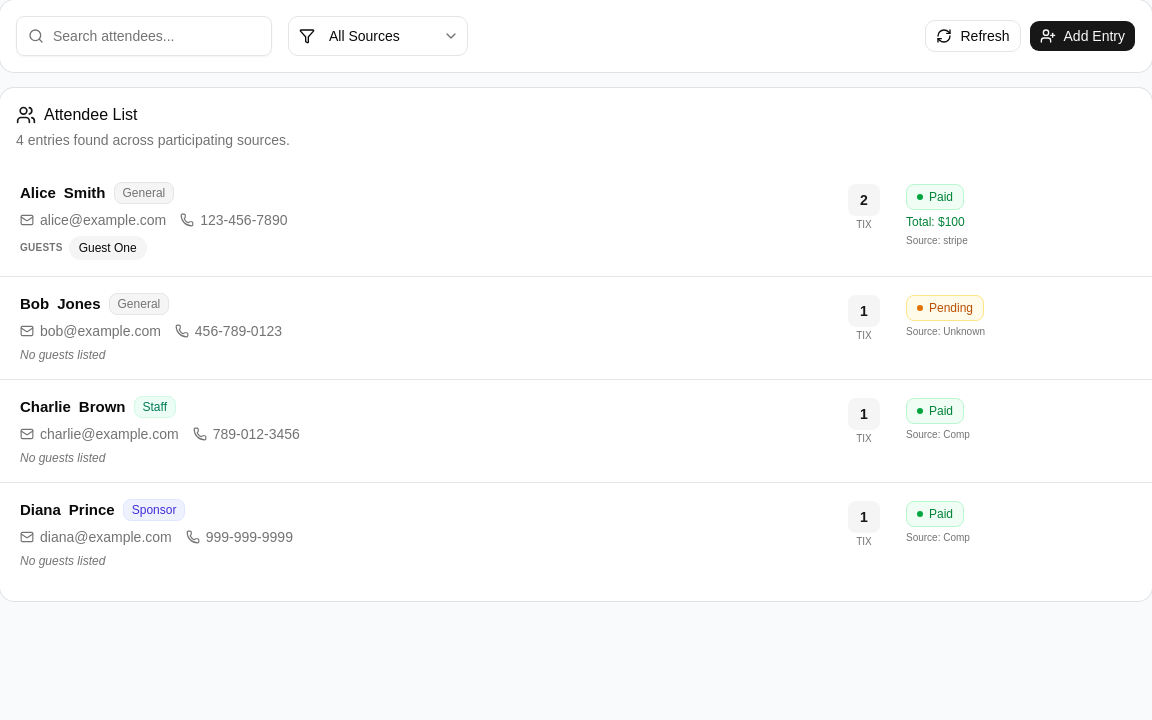
Test: TicketAttendeeTab - Sort and Filter › General Tickets filter: selects General Tickets option and displays only general attendees
The width and height of the screenshot is (1152, 720).
Click the dropdown named "Filter by source": (378, 36) [288,16,468,56]
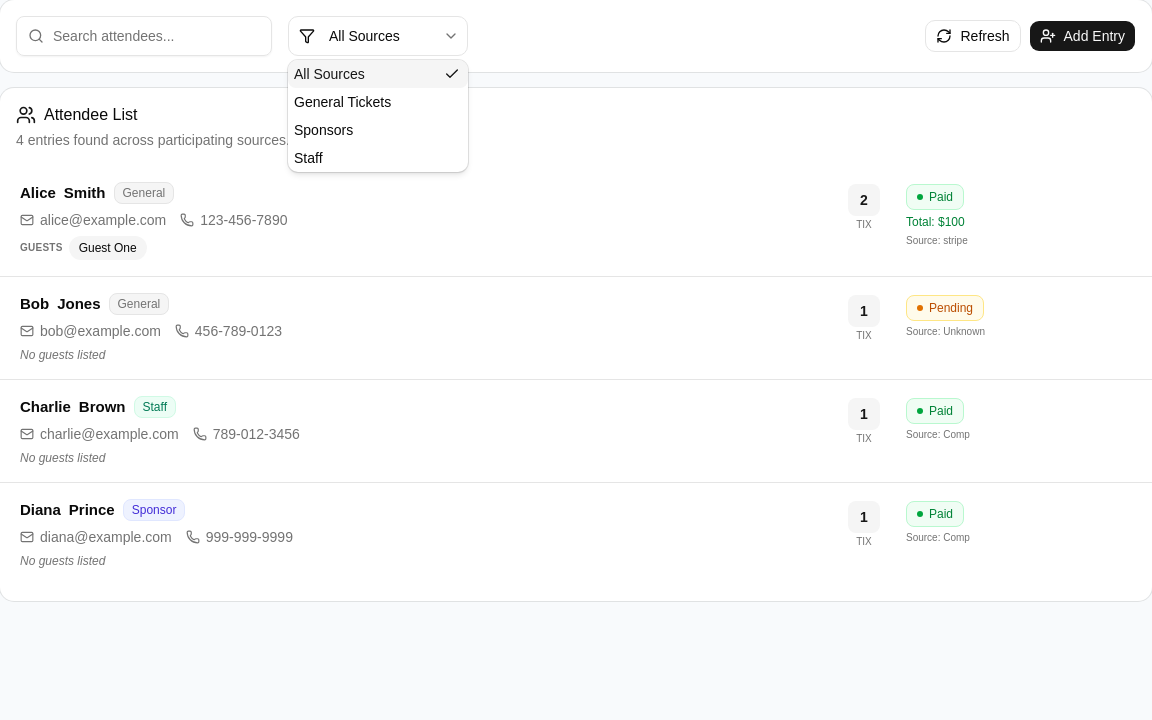
Click the option "General Tickets": (343, 102) [294,94,391,110]
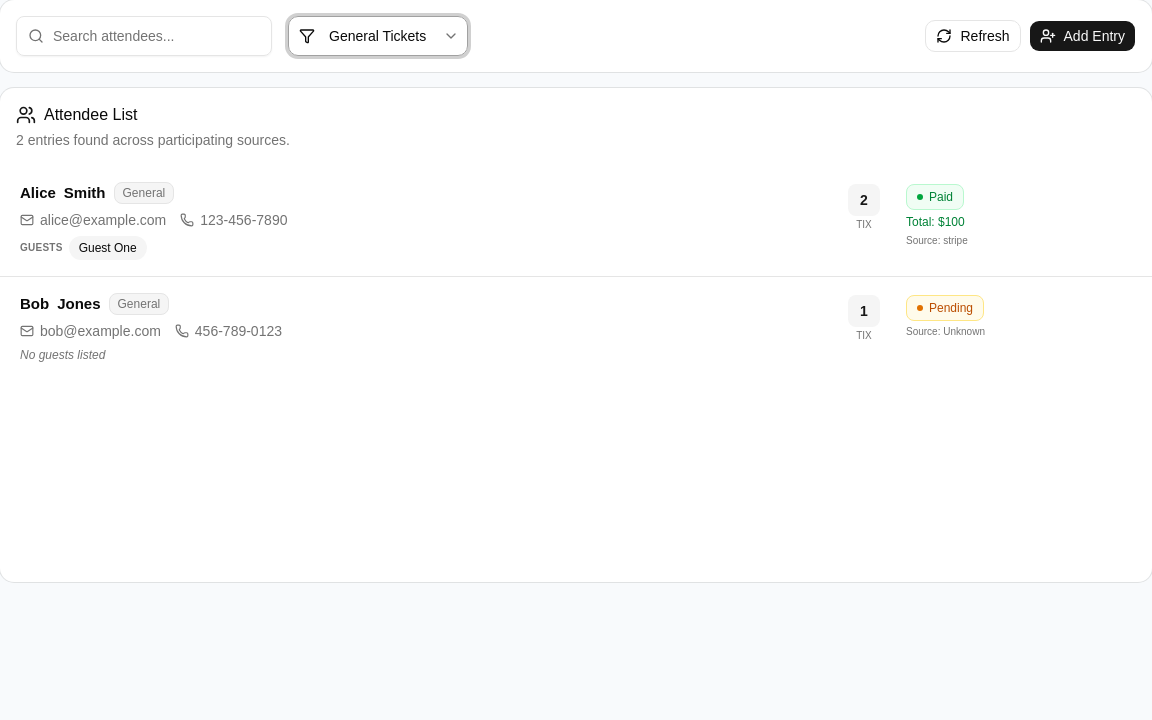
Expected: the text "Alice" is shown, [20,182,56,204]
Now the text "Charlie" is gone
Now the text "Diana" is gone
